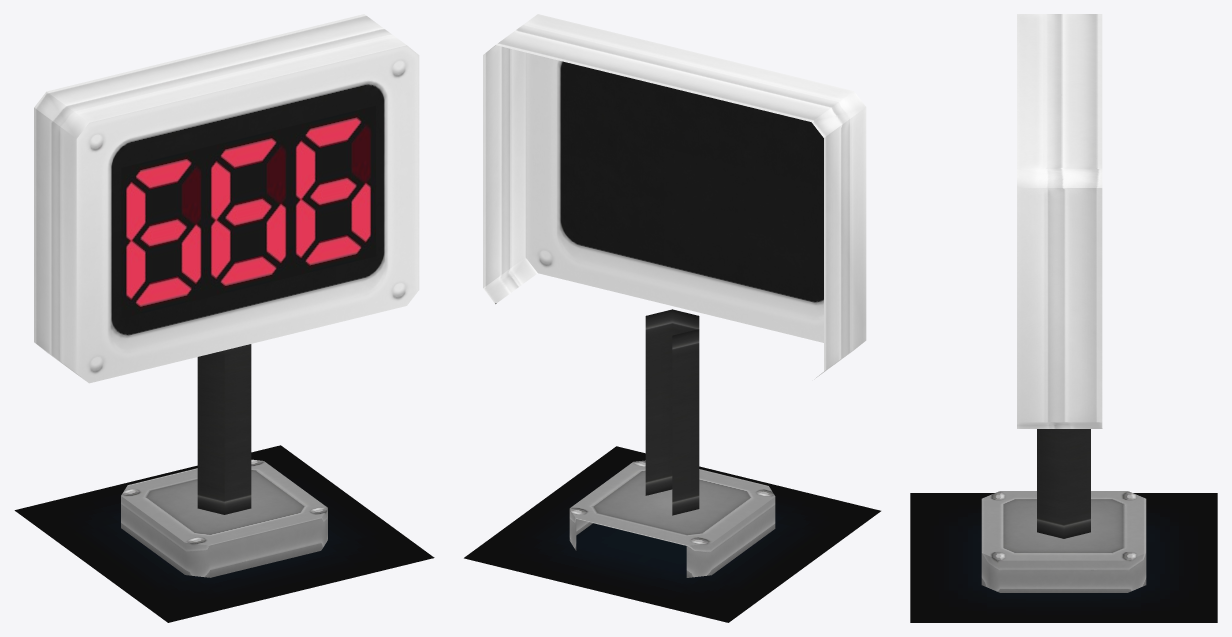
The model's file is queue_panel.glb.
The picture shows the model from 3 angles, left to right: view 1: azimuth 30°, elevation 25°; view 2: azimuth 150°, elevation 25°; view 3: azimuth 270°, elevation 25°; orthographic projection.
Visible parts, largest first — view 1: qeue_panel, queue_shadow, queue_panel_base, digit_3, digit_2, digit_1; view 2: qeue_panel, queue_shadow, queue_panel_base; view 3: qeue_panel, queue_shadow, queue_panel_base.
Boxes of the visible parts, x1=… form: qeue_panel: x1=34, y1=14, x2=419, y2=514; queue_shadow: x1=14, y1=445, x2=434, y2=622; queue_panel_base: x1=121, y1=459, x2=327, y2=577; digit_3: x1=291, y1=105, x2=375, y2=276; digit_2: x1=206, y1=126, x2=290, y2=297; digit_1: x1=121, y1=147, x2=205, y2=318; qeue_panel: x1=483, y1=14, x2=866, y2=515; queue_shadow: x1=464, y1=446, x2=880, y2=622; queue_panel_base: x1=569, y1=460, x2=775, y2=577; qeue_panel: x1=1017, y1=14, x2=1102, y2=538; queue_shadow: x1=910, y1=493, x2=1217, y2=622; queue_panel_base: x1=981, y1=491, x2=1146, y2=592.
Size of the model in its own units: 339 by 445 by 264.
6 materials, 6 textured.
